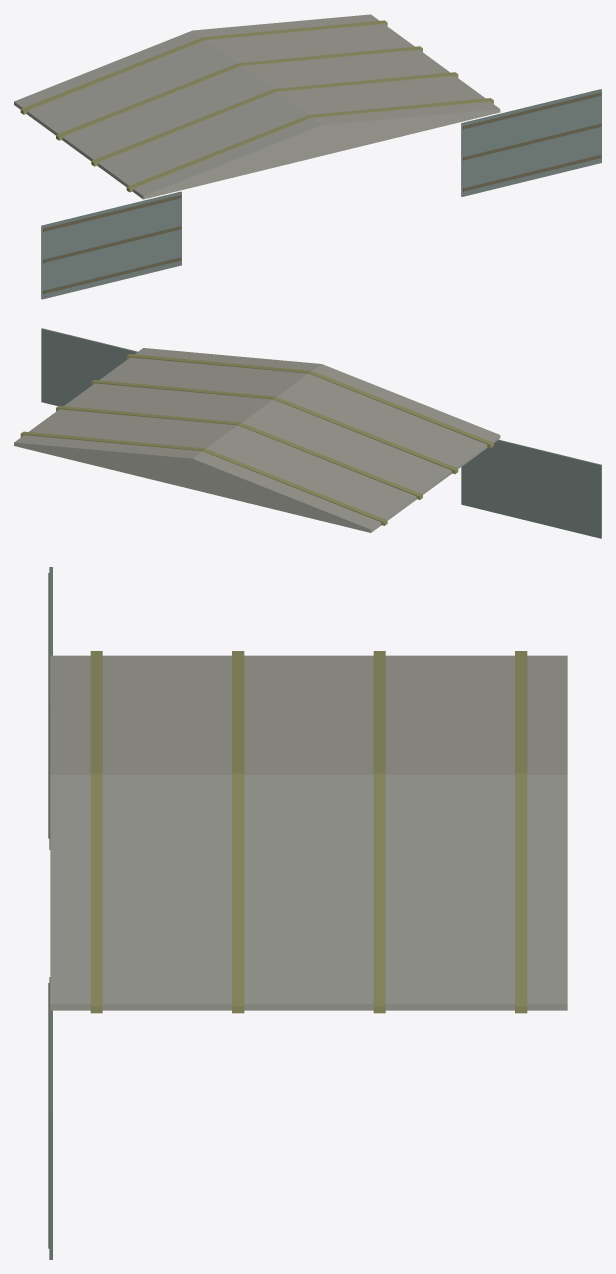
The model's file is SM_HangarAbierto_v2_Refugio_LOD1.fbx.
3 renders of one model, top to bottom at view 1: azimuth 30°, elevation 25°; view 2: azimuth 150°, elevation 25°; view 3: azimuth 270°, elevation 25°, orthographic. The views are drawn at different scales.
Visible parts, largest first — view 1: Cubierta, Porton_E, Porton_O; view 2: Cubierta, Porton_O, Porton_E; view 3: Cubierta, Porton_E, Porton_O.
Part boxes in pixels (x1,y1,x2,y2): Cubierta: (14,14,500,199); Porton_E: (461,89,601,196); Porton_O: (41,191,181,299); Cubierta: (14,348,500,532); Porton_O: (461,439,601,538); Porton_E: (41,328,137,405); Cubierta: (50,651,567,1013); Porton_E: (48,977,52,1259); Porton_O: (48,567,52,849).
Size of what is drawn, in the model's own units: 63.98 by 11.63 by 25.69.
